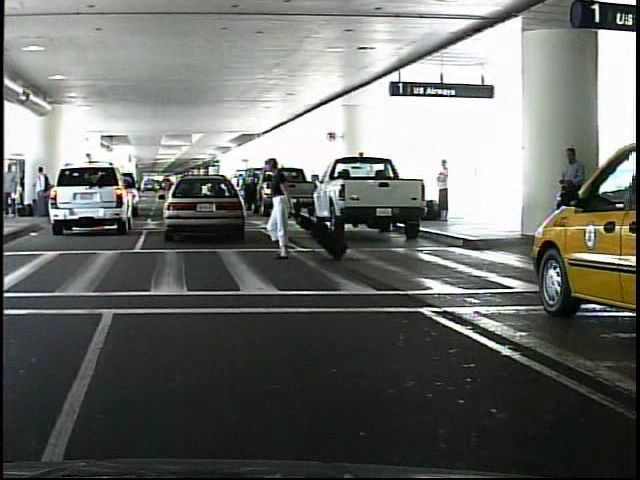person: (553, 145, 590, 268), (266, 157, 307, 259), (431, 157, 456, 223), (32, 163, 50, 223)
